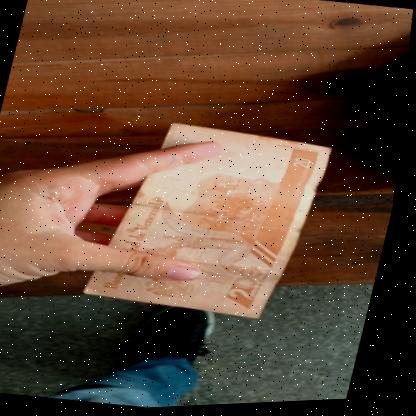vef_back: (83, 111, 339, 333)
